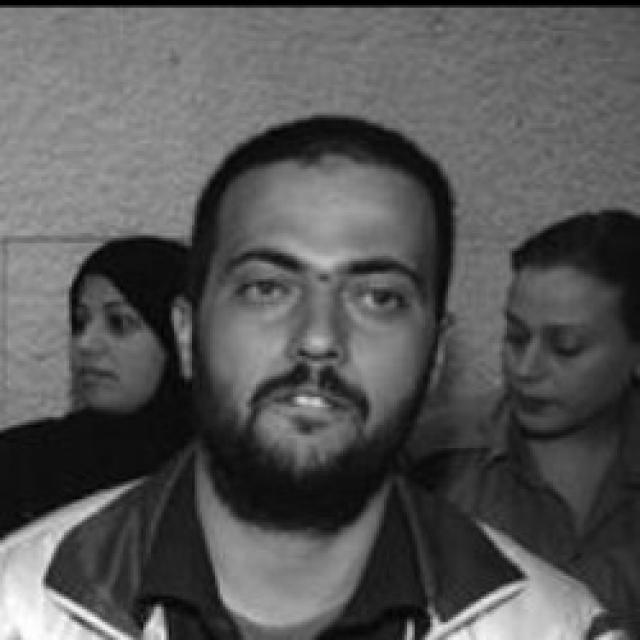real: (190, 113, 450, 533), (500, 251, 639, 448), (65, 262, 163, 412), (506, 317, 586, 367)
